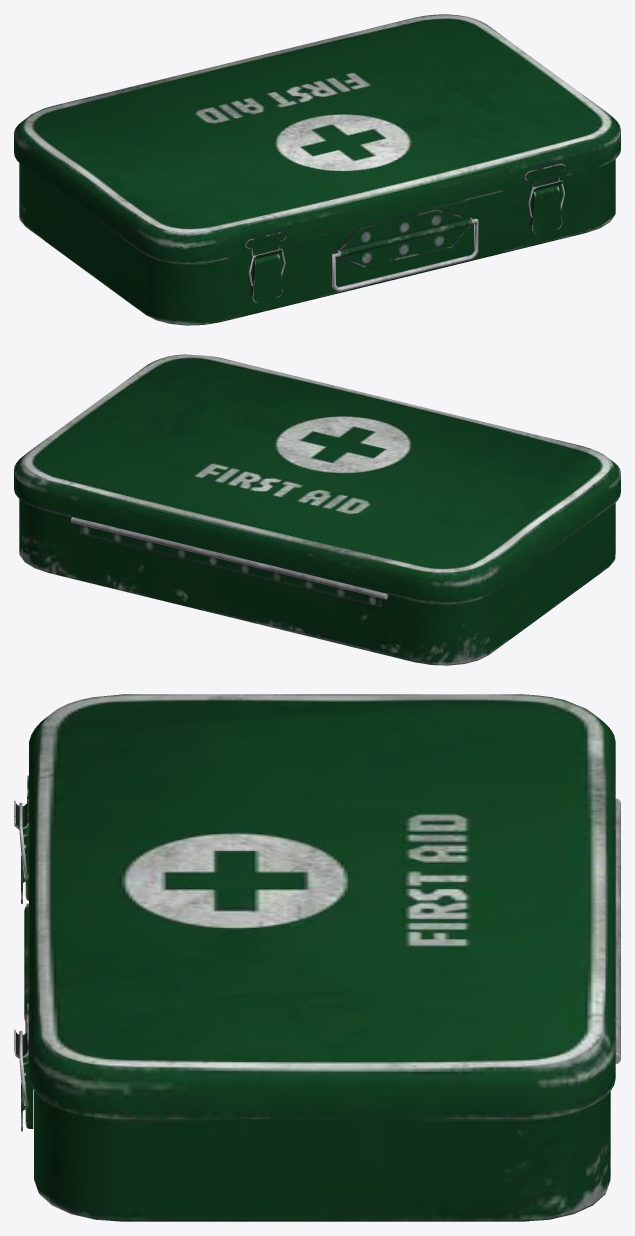
File: medical_box.glb
3 renders of one model, top to bottom at view 1: azimuth 30°, elevation 25°; view 2: azimuth 150°, elevation 25°; view 3: azimuth 270°, elevation 25°, orthographic. The views are drawn at different scales.
Parts seen in each view (by area): view 1: medical_box_latch; view 2: medical_box_latch; view 3: medical_box_latch.
Part boxes in pixels (x1,y1,x2,y2): medical_box_latch: (14, 14, 620, 325); medical_box_latch: (14, 354, 620, 665); medical_box_latch: (14, 694, 620, 1221).
Size of the model in its own units: 0.5255 by 0.0975 by 0.3501.
Materials: 1 (1 with a texture image).
